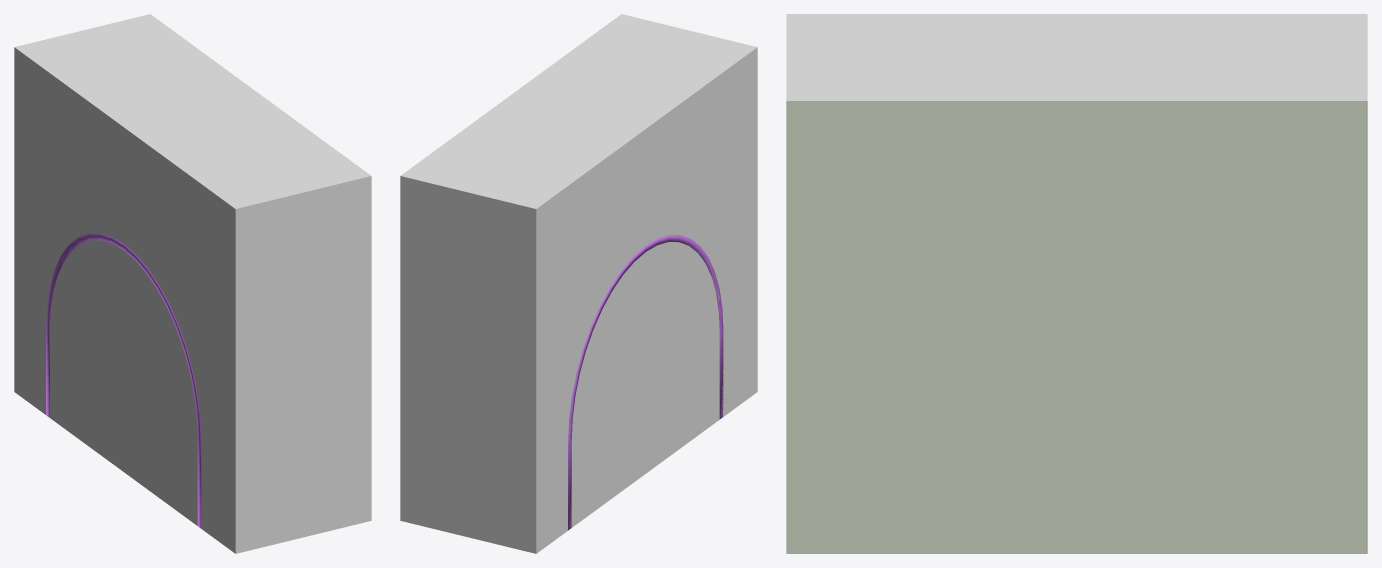
The model's file is ReNe_Arch.gltf.
3 renders of one model, left to right at view 1: azimuth 30°, elevation 25°; view 2: azimuth 150°, elevation 25°; view 3: azimuth 270°, elevation 25°, orthographic. The views are drawn at different scales.
Visible parts, largest first — view 1: ReNe_Arch_bcol, ReNe_Arch.001; view 2: ReNe_Arch_bcol, ReNe_Arch.001; view 3: ReNe_Arch.001, ReNe_Arch_bcol.
Boxes of the visible parts, x1,y1,x2,y2 form: ReNe_Arch_bcol: (14,14,371,553); ReNe_Arch.001: (46,233,201,528); ReNe_Arch_bcol: (400,14,757,553); ReNe_Arch.001: (568,235,723,530); ReNe_Arch.001: (786,101,1366,553); ReNe_Arch_bcol: (786,14,1367,553).
Bounding box in the file's own units: 1.65 × 4 × 4.65.
